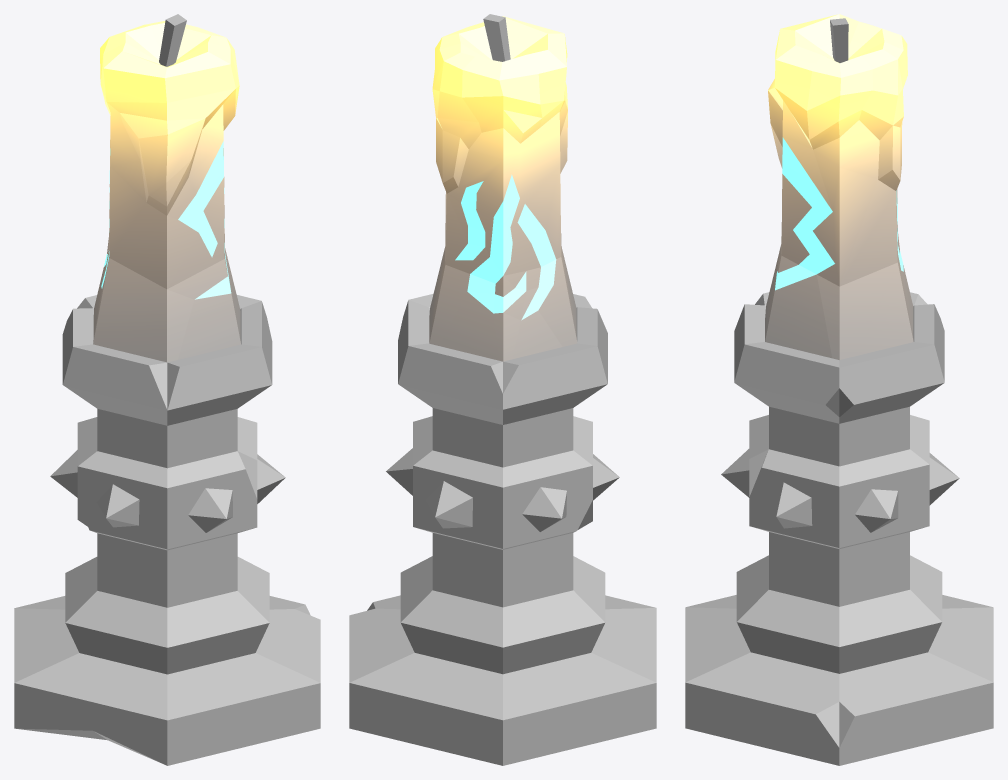
The model's file is SM_Prop_Candle_01.fbx.
3 views of the same model, side by side, from view 1: azimuth 30°, elevation 25°; view 2: azimuth 150°, elevation 25°; view 3: azimuth 270°, elevation 25° (orthographic).
Parts seen in each view (by area): view 1: SM_Prop_Candle_01; view 2: SM_Prop_Candle_01; view 3: SM_Prop_Candle_01.
Part boxes in pixels (box(x1,y1,x2,y2)): SM_Prop_Candle_01: box(14, 14, 320, 765); SM_Prop_Candle_01: box(349, 14, 656, 765); SM_Prop_Candle_01: box(685, 14, 993, 765).
Bounding box in the file's own units: 27.99 × 58.45 × 24.24.
